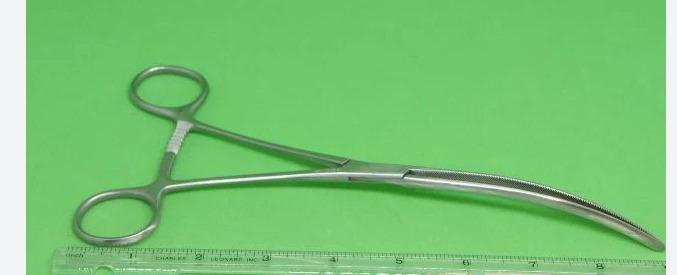Doyel Instestinal Forceps: (69, 56, 668, 257)
